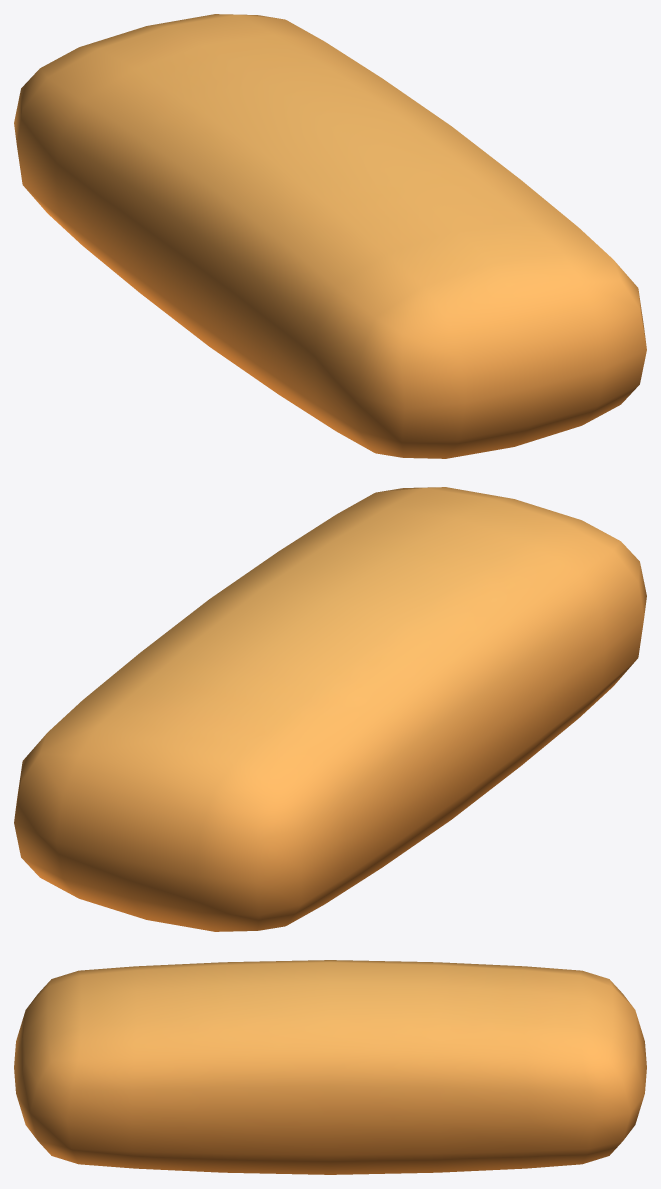
File: SandWall04.fbx
The picture shows the model from 3 angles, top to bottom: view 1: azimuth 30°, elevation 25°; view 2: azimuth 150°, elevation 25°; view 3: azimuth 270°, elevation 25°; orthographic projection. The views are drawn at different scales.
Parts seen in each view (by area): view 1: Sand Wall04; view 2: Sand Wall04; view 3: Sand Wall04.
Boxes of the visible parts, box(x1,y1,x2,y2) form: Sand Wall04: box(14, 14, 646, 458); Sand Wall04: box(14, 487, 646, 931); Sand Wall04: box(14, 960, 646, 1174).
Bounding box in the file's own units: 0.3881 × 0.9527 × 0.28.
